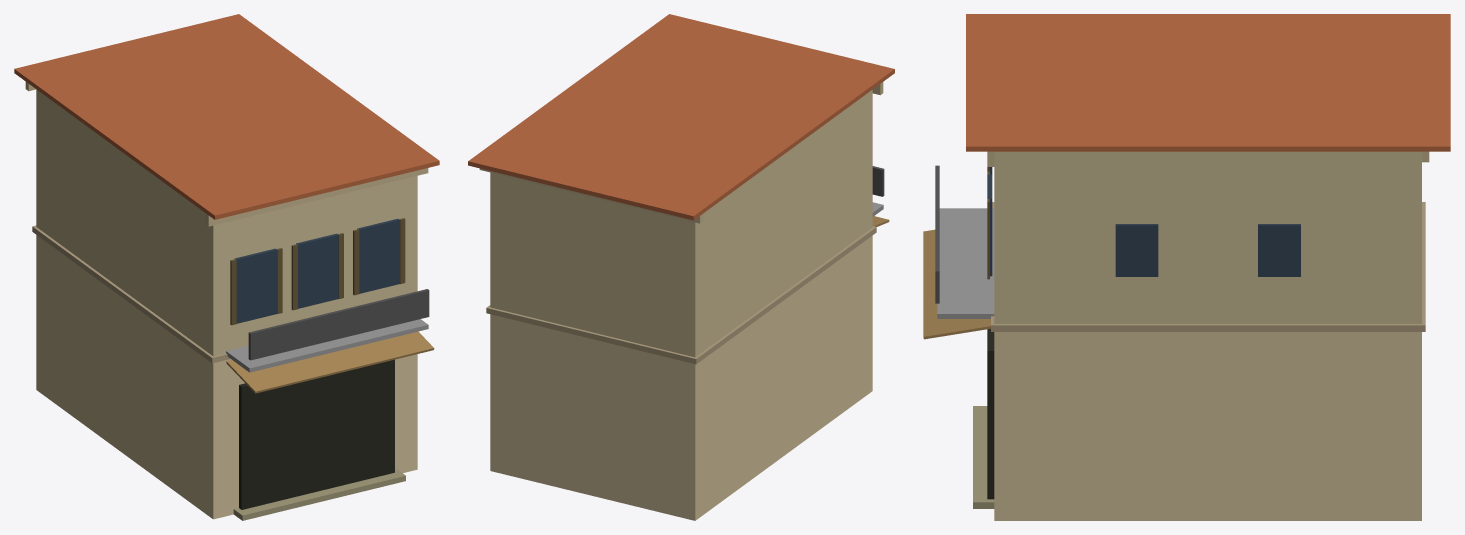
Rendered from shophouse.glb.
3 renders of one model, left to right at view 1: azimuth 30°, elevation 25°; view 2: azimuth 150°, elevation 25°; view 3: azimuth 270°, elevation 25°, orthographic. The views are drawn at different scales.
Parts seen in each view (by area): view 1: Mesh_Roof, Mesh_SecondFloor, Mesh_GroundFloor, Mesh_ShopOpening, Mesh_BalconyRail, Mesh_Awning, Mesh_WindowLeft, Mesh_WindowCenter, Mesh_WindowRight, Mesh_BalconyFloor, Mesh_Threshold, Mesh_FloorDivider (+2 smaller); view 2: Mesh_GroundFloor, Mesh_SecondFloor, Mesh_Roof, Mesh_FloorDivider, Mesh_RoofEdgeRear; view 3: Mesh_GroundFloor, Mesh_SecondFloor, Mesh_Roof, Mesh_BalconyFloor, Mesh_FloorDivider, Mesh_SideWindowFront, Mesh_SideWindowBack, Mesh_Awning, Mesh_Threshold, Mesh_ShopOpening, Mesh_BalconyRail.
Boxes of the visible parts, x1,y1,x2,y2 form: Mesh_Roof: (14, 14, 439, 219); Mesh_SecondFloor: (36, 89, 417, 356); Mesh_GroundFloor: (36, 235, 417, 519); Mesh_ShopOpening: (239, 359, 394, 509); Mesh_BalconyRail: (248, 289, 429, 360); Mesh_Awning: (226, 331, 434, 393); Mesh_WindowLeft: (234, 248, 277, 323); Mesh_WindowCenter: (296, 233, 338, 308); Mesh_WindowRight: (357, 218, 399, 293); Mesh_BalconyFloor: (226, 319, 428, 372); Mesh_Threshold: (233, 469, 405, 520); Mesh_FloorDivider: (32, 225, 230, 363); Mesh_GroundFloor: (490, 235, 872, 520); Mesh_SecondFloor: (490, 90, 872, 357); Mesh_Roof: (468, 14, 894, 220); Mesh_FloorDivider: (486, 226, 876, 364); Mesh_RoofEdgeRear: (479, 168, 702, 223); Mesh_GroundFloor: (994, 332, 1421, 520); Mesh_SecondFloor: (994, 151, 1421, 323); Mesh_Roof: (966, 14, 1450, 151); Mesh_BalconyFloor: (937, 208, 994, 318); Mesh_FloorDivider: (991, 202, 1425, 331); Mesh_SideWindowFront: (1115, 224, 1158, 276); Mesh_SideWindowBack: (1258, 224, 1300, 276); Mesh_Awning: (923, 229, 990, 339); Mesh_Threshold: (973, 406, 994, 508); Mesh_ShopOpening: (987, 329, 994, 499); Mesh_BalconyRail: (935, 165, 939, 303).
Bounding box in the file's own units: 4.4 × 5.89 × 7.4.
